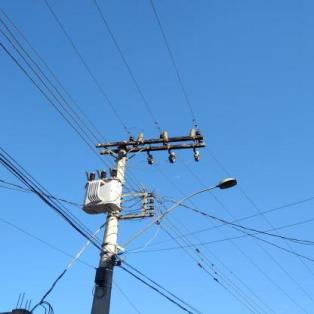Poste: (89, 139, 134, 314)
